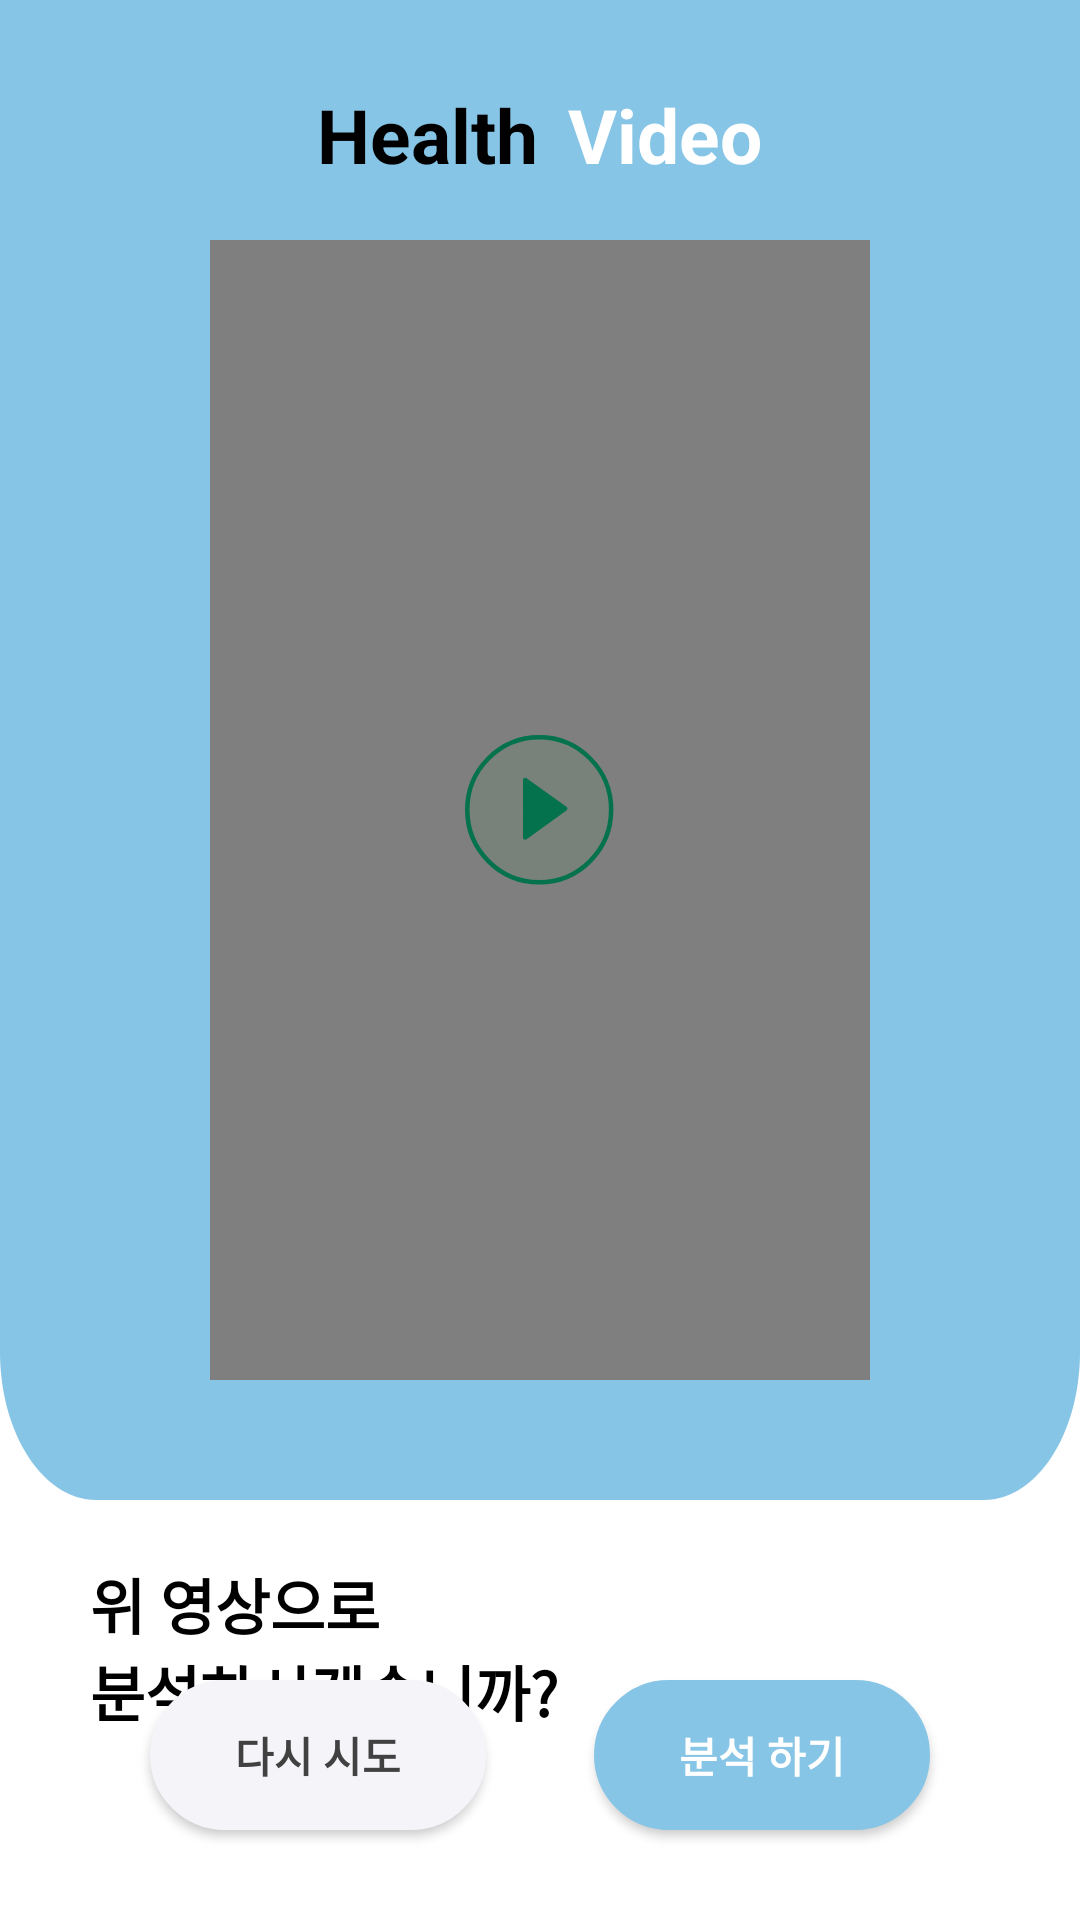

Named icons in this screenshot (1080 x 1920) and their centers, point (x, y):
play: point (539, 810)
